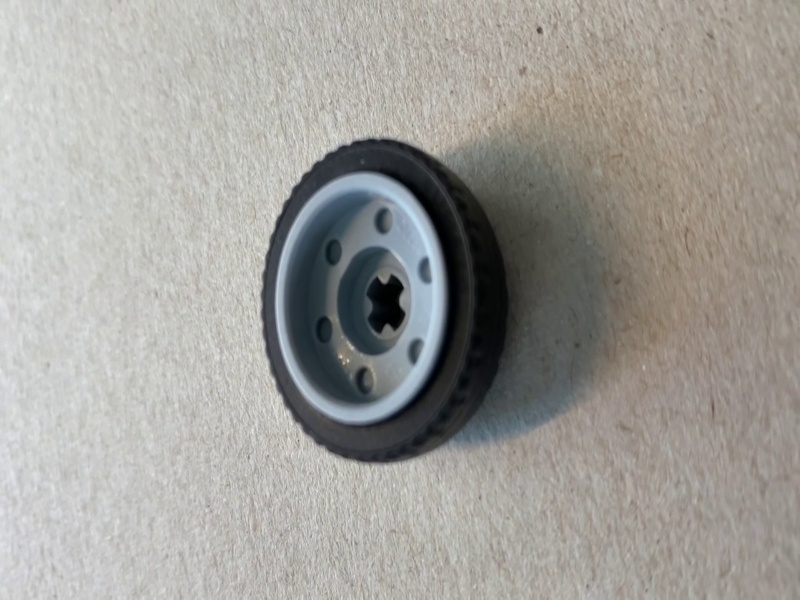tire: (262, 137, 511, 466)
